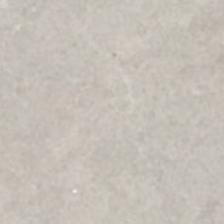Non_Crack: (32, 23, 213, 185)
